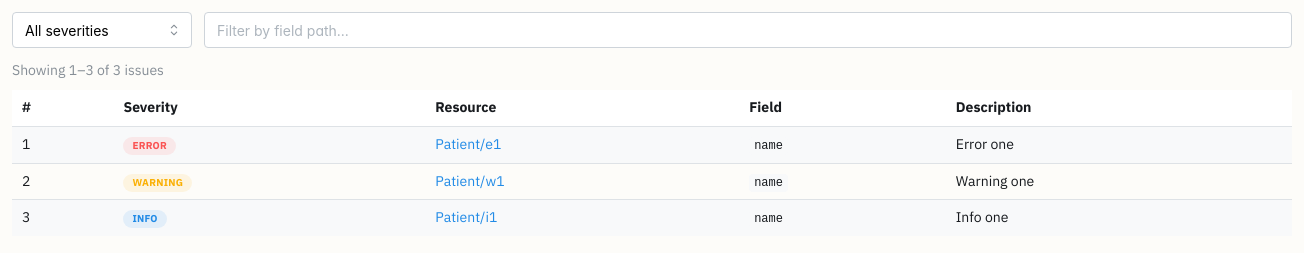
Test: ResourceIssueTable › severity filter shows only matching issues
The width and height of the screenshot is (1304, 253).
Check: the text "Error one" is shown, box [946, 126, 1292, 163]
Check: the text "Warning one" is shown, box [946, 163, 1292, 200]
// Open severity select and choose 'error'
What coordinates should you click on to do the following:
click the field named "Filter by severity"
I would click on:
 (102, 30)
Its box is [12, 12, 192, 48].
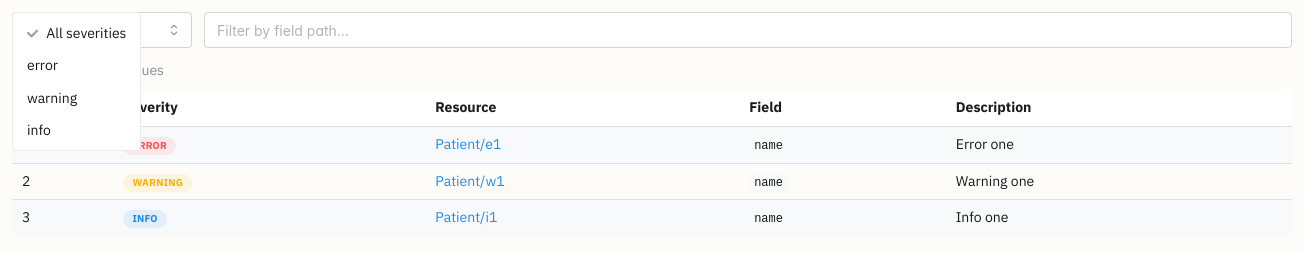
Check: the option "error" is shown
What coordinates should you click on to do the following:
click the option "error"
I would click on:
 (42, 65)
Its box is [27, 56, 58, 74].
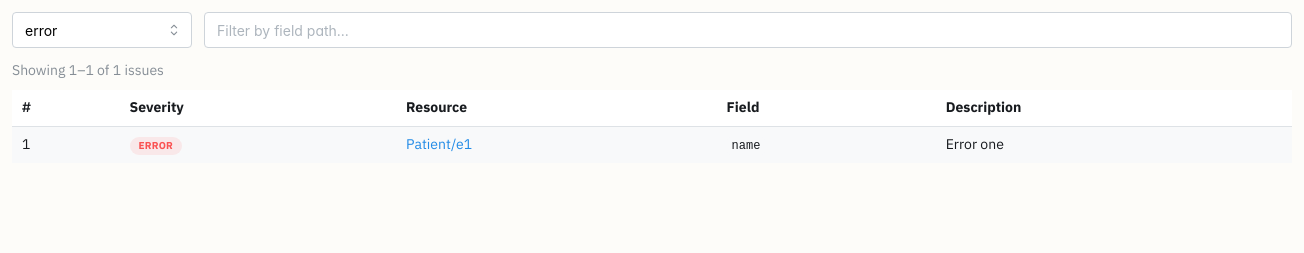
Check: the text "Error one" is shown, box [936, 126, 1292, 163]
Check: the text "Warning one" is gone
Check: the text "Info one" is gone
